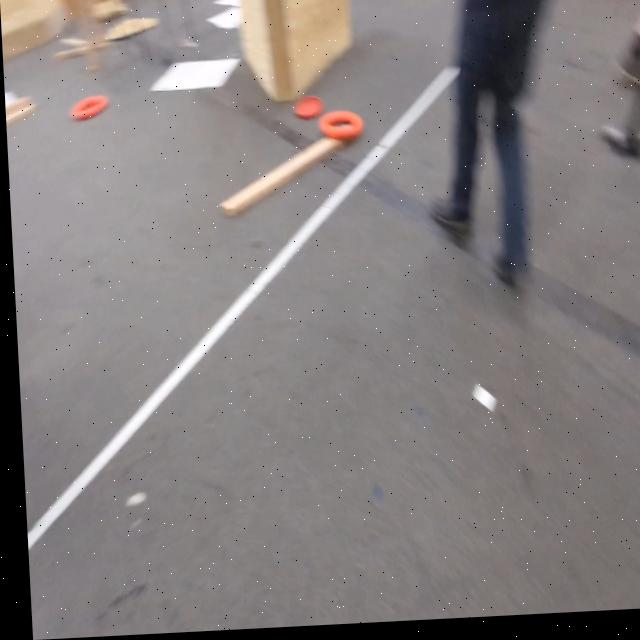note: (315, 113, 361, 145), (66, 95, 108, 122)
